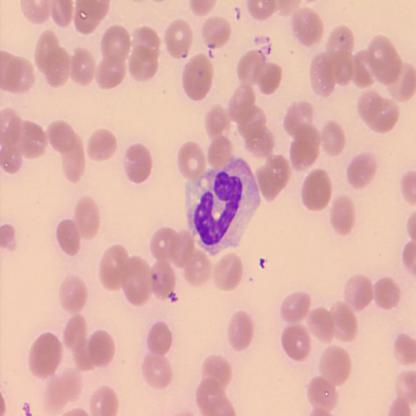Band Neutrophil: (183, 155, 263, 260)
